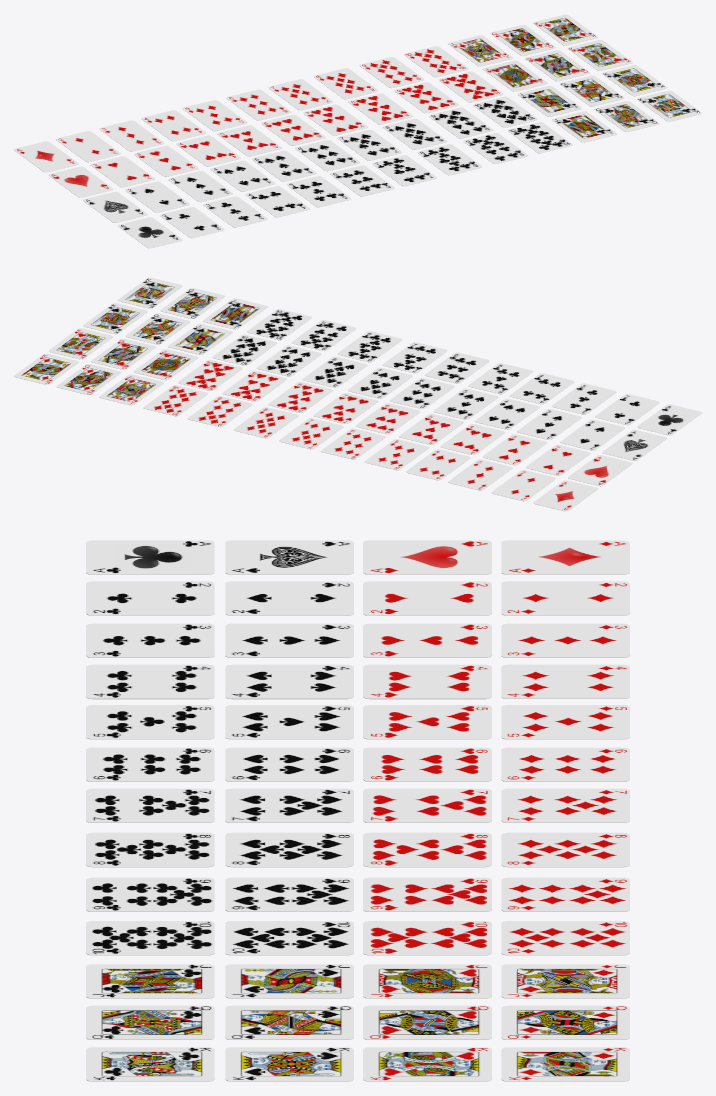
File: cards.glb
3 views of the same model, one above another, from view 1: azimuth 30°, elevation 25°; view 2: azimuth 150°, elevation 25°; view 3: azimuth 270°, elevation 25° (orthographic). The views are drawn at different scales.
Visible parts, largest first — view 1: defaultMaterial.052, defaultMaterial.073, defaultMaterial.046, defaultMaterial.085, defaultMaterial.115, defaultMaterial.118, defaultMaterial.124, defaultMaterial.133, defaultMaterial.136, defaultMaterial.010, defaultMaterial.064, defaultMaterial.070 (+40 smaller); view 2: defaultMaterial.046, defaultMaterial.049, defaultMaterial.091, defaultMaterial.010, defaultMaterial.034, defaultMaterial.052, defaultMaterial.073, defaultMaterial.145, defaultMaterial.148, defaultMaterial.151, defaultMaterial.007, defaultMaterial.025 (+40 smaller); view 3: defaultMaterial.001, defaultMaterial.004, defaultMaterial.007, defaultMaterial.010, defaultMaterial.037, defaultMaterial.043, defaultMaterial.046, defaultMaterial.061, defaultMaterial.064, defaultMaterial.073, defaultMaterial.082, defaultMaterial.088 (+40 smaller).
Part boxes in pixels (x1,y1,x2,y2): defaultMaterial.052: (560, 75, 624, 106); defaultMaterial.073: (533, 14, 597, 45); defaultMaterial.046: (637, 90, 701, 121); defaultMaterial.085: (348, 93, 412, 124); defaultMaterial.115: (176, 135, 240, 166); defaultMaterial.118: (203, 196, 267, 227); defaultMaterial.124: (303, 104, 367, 135); defaultMaterial.133: (217, 125, 281, 156); defaultMaterial.136: (90, 156, 155, 187); defaultMaterial.010: (261, 114, 325, 145); defaultMaterial.064: (552, 111, 616, 142); defaultMaterial.070: (473, 96, 537, 127); defaultMaterial.046: (118, 277, 182, 308); defaultMaterial.049: (91, 338, 155, 369); defaultMaterial.091: (560, 419, 624, 450); defaultMaterial.010: (355, 403, 420, 434); defaultMaterial.034: (448, 459, 512, 490); defaultMaterial.052: (125, 313, 189, 344); defaultMaterial.073: (14, 353, 78, 384); defaultMaterial.145: (222, 370, 286, 401); defaultMaterial.148: (475, 398, 539, 429); defaultMaterial.151: (303, 356, 367, 387); defaultMaterial.007: (99, 374, 163, 405); defaultMaterial.025: (321, 428, 385, 459); defaultMaterial.001: (501, 581, 629, 615); defaultMaterial.004: (501, 1005, 629, 1039); defaultMaterial.007: (501, 964, 629, 998); defaultMaterial.010: (363, 747, 491, 781); defaultMaterial.037: (501, 540, 629, 574); defaultMaterial.043: (225, 1047, 353, 1081); defaultMaterial.046: (86, 1047, 214, 1081); defaultMaterial.061: (225, 964, 353, 998); defaultMaterial.064: (86, 964, 214, 998); defaultMaterial.073: (501, 1047, 629, 1081); defaultMaterial.082: (86, 788, 214, 822); defaultMaterial.088: (86, 747, 214, 781).
Bounding box in the file's own units: 7.95 × 0.00243 × 3.38.
54 materials, 54 textured.
